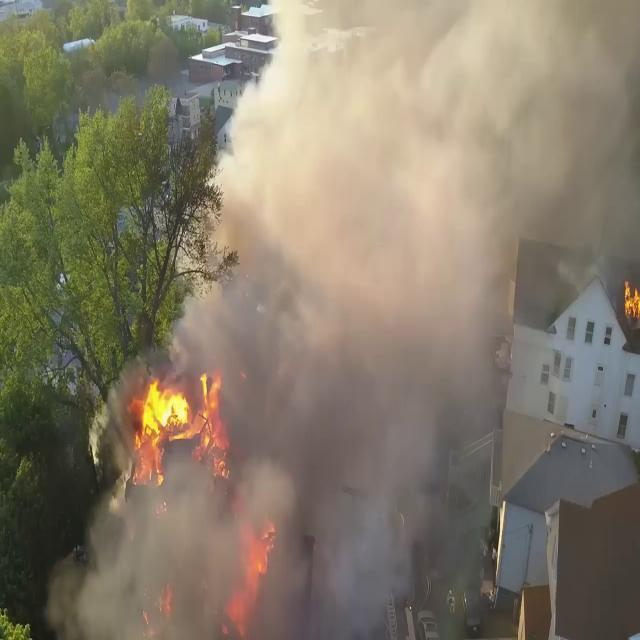Fire: (132, 366, 230, 472), (622, 270, 640, 328)
Smoke: (173, 0, 639, 622)
